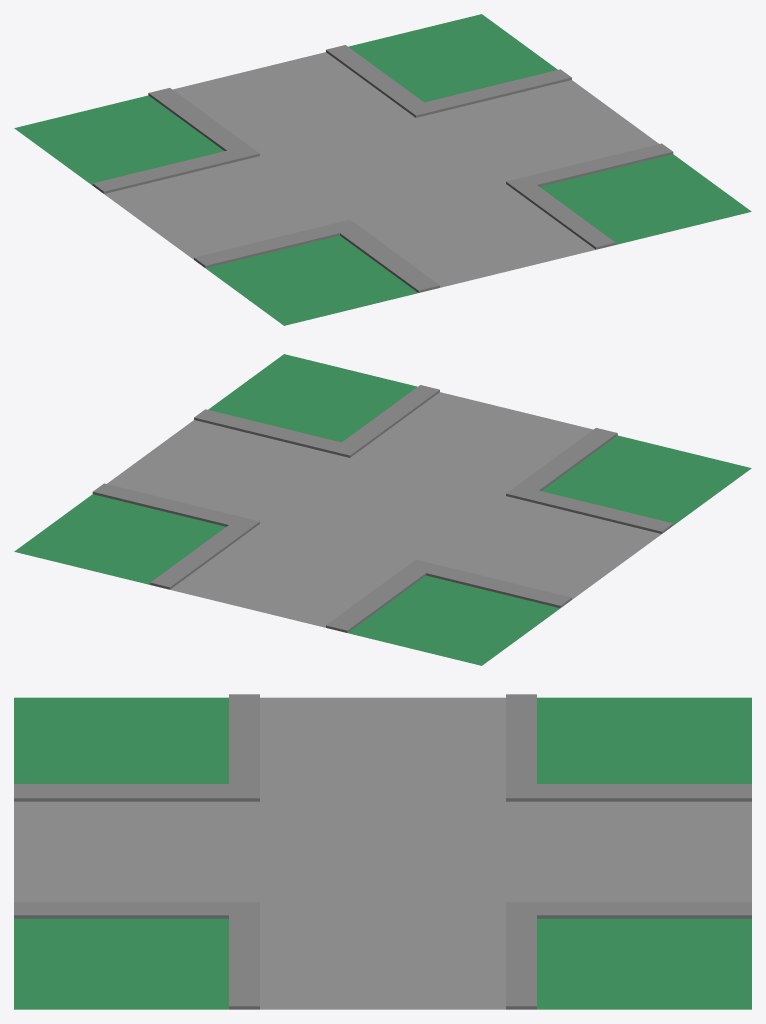
Rendered from Park1-FourWay.fbx.
3 renders of one model, top to bottom at view 1: azimuth 30°, elevation 25°; view 2: azimuth 150°, elevation 25°; view 3: azimuth 270°, elevation 25°, orthographic. The views are drawn at different scales.
Parts seen in each view (by area): view 1: Park1; view 2: Park1; view 3: Park1.
Part boxes in pixels (<box>): Park1: <box>14,14,751,325</box>; Park1: <box>14,354,751,665</box>; Park1: <box>14,694,751,1009</box>.
Size of the model in its own units: 350 by 1.73 by 350.
